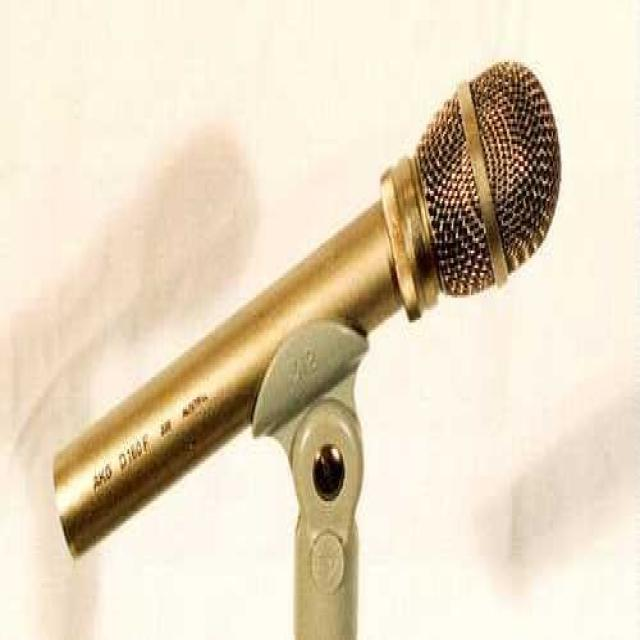microphone: (63, 63, 548, 544)
